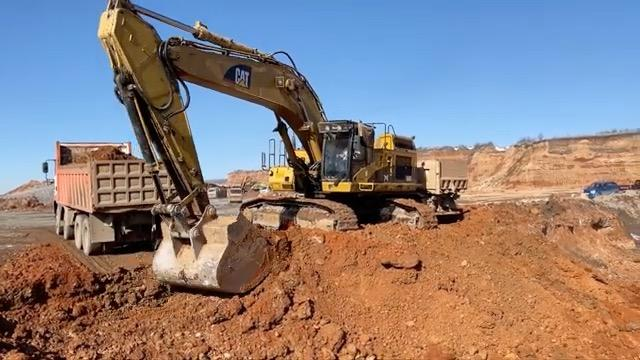excavator: (97, 0, 421, 237)
